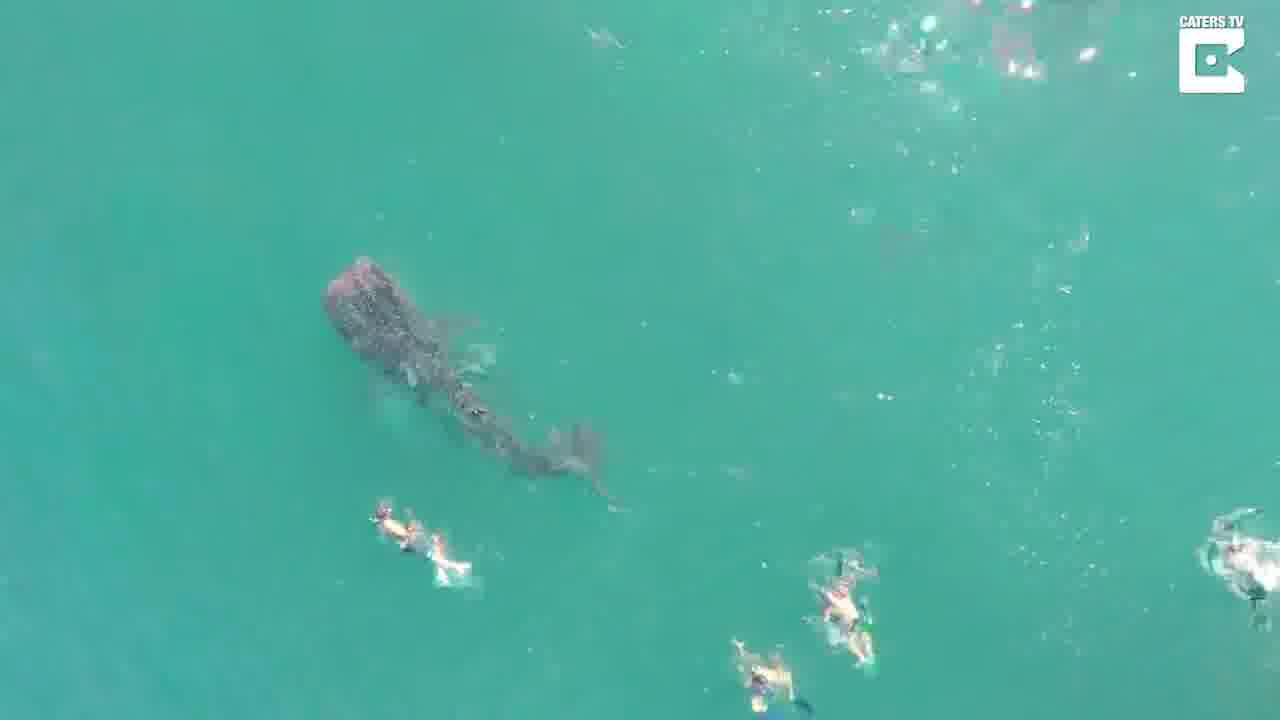swimmer: (369, 500, 461, 586), (821, 573, 881, 662), (736, 642, 803, 708)
